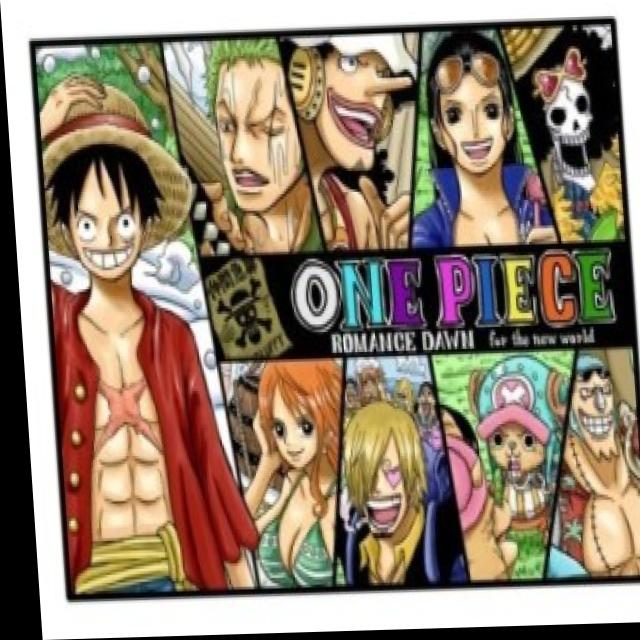Blook: (496, 27, 624, 206)
Chyopa: (459, 360, 568, 486)
Franky: (552, 355, 627, 477)
Luffy: (18, 76, 196, 286)
Nami: (247, 358, 333, 477)
NicoRobin: (414, 25, 526, 184)
Sangdi: (330, 408, 419, 546)
Usopp: (281, 31, 418, 187)
Zoro: (187, 37, 310, 203)
